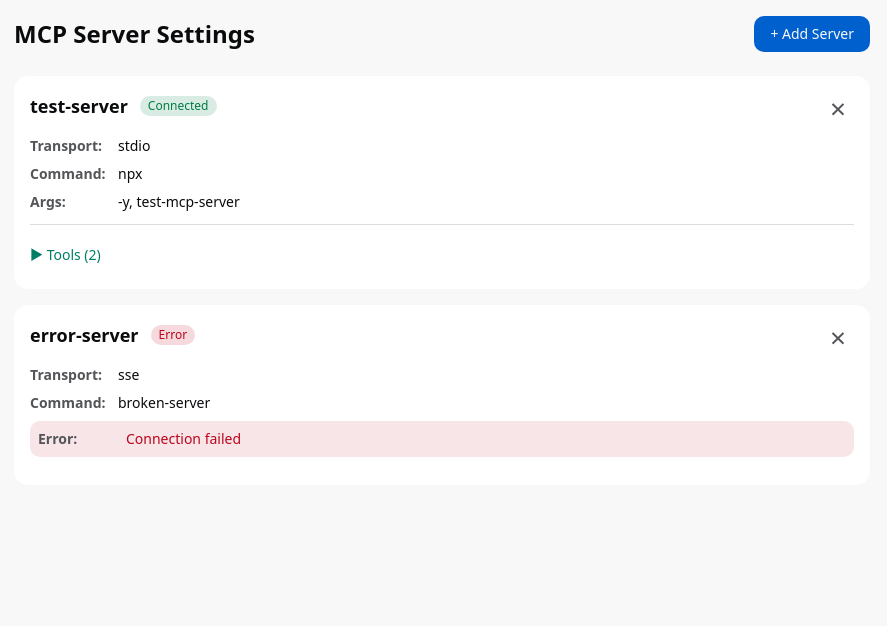
Test: MCPSettings › tool listing › should expand and show tools when toggle is clicked
Expected: the heading "test-server" is shown, [30, 92, 128, 120]
Click the button "▶ Tools (2)" at (65, 255), box [30, 237, 101, 273]
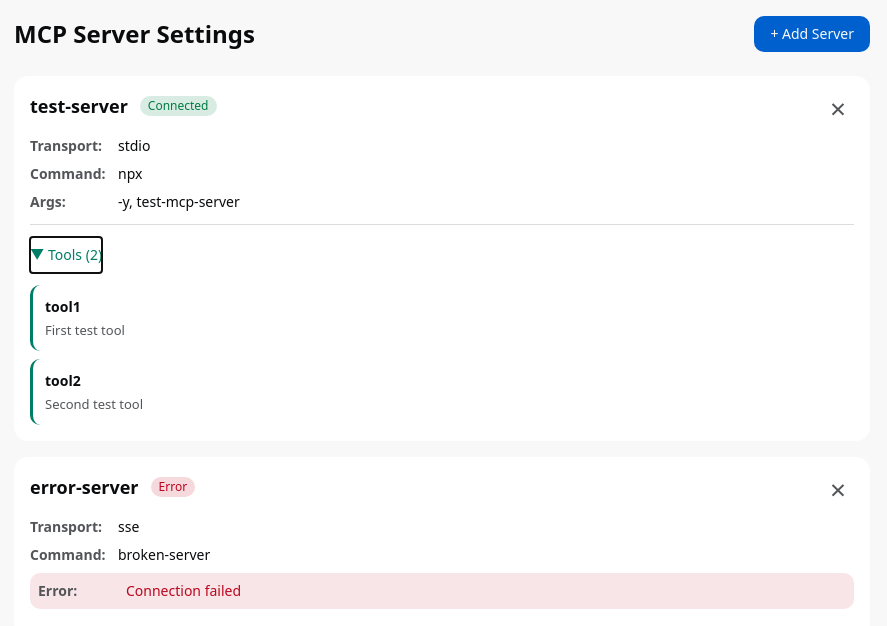
Expected: the text "tool1" is shown, [45, 297, 81, 316]
Expected: the text "First test tool" is shown, [45, 321, 125, 339]
Expected: the text "tool2" is shown, [45, 371, 81, 390]
